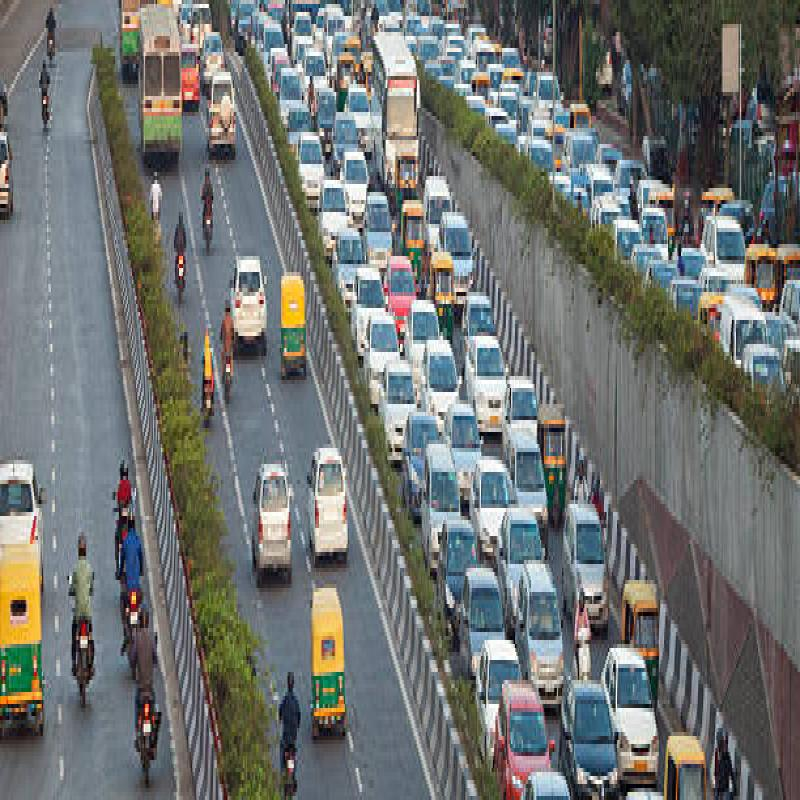auto: (0, 536, 50, 736), (308, 578, 350, 736), (281, 270, 311, 388)
bike: (138, 678, 164, 782), (72, 611, 96, 710), (42, 0, 70, 80), (278, 735, 301, 800), (36, 80, 57, 142), (171, 246, 190, 304), (203, 371, 218, 436), (202, 200, 217, 258), (224, 343, 235, 412)
car: (558, 678, 620, 800), (606, 631, 652, 776), (524, 556, 567, 710), (496, 491, 550, 602), (2, 451, 48, 578), (500, 673, 547, 796), (306, 443, 352, 566), (250, 443, 292, 576), (478, 621, 518, 758), (518, 536, 555, 684), (420, 443, 460, 578), (466, 316, 512, 432), (565, 496, 610, 614), (477, 611, 512, 748), (460, 556, 501, 672), (384, 341, 416, 470), (424, 333, 465, 426)
